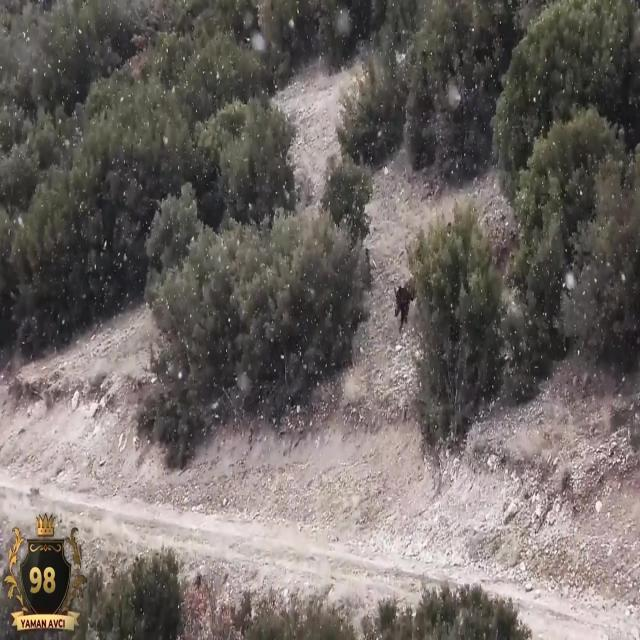pig: (391, 277, 415, 325)
